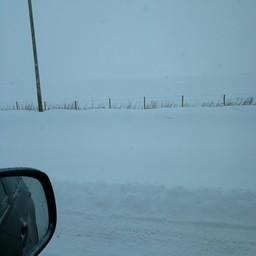Snow: (0, 105, 255, 255), (41, 73, 255, 103), (0, 83, 37, 105)
